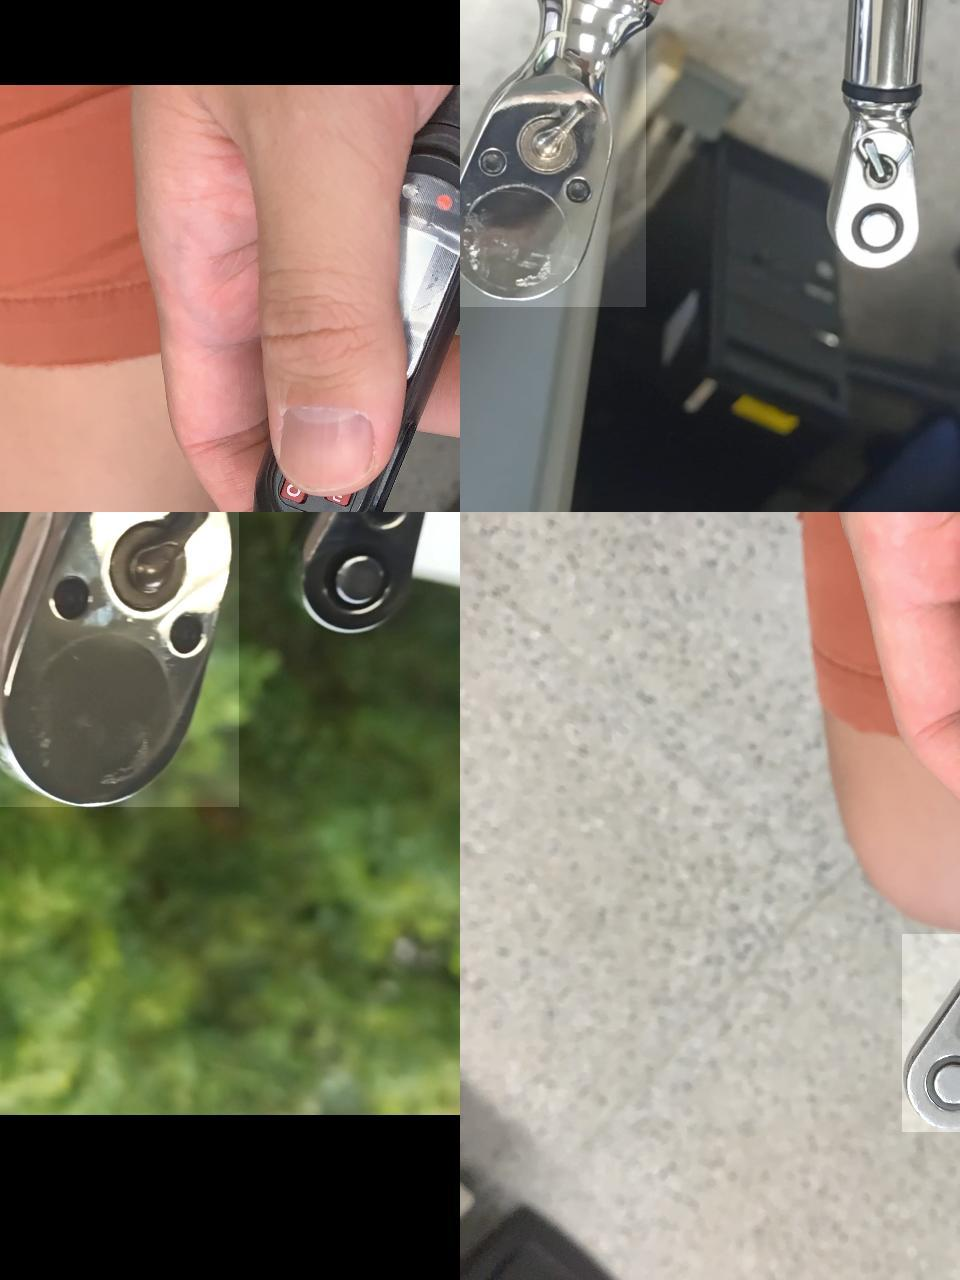Tool: (0, 512, 238, 807), (460, 0, 645, 307), (287, 512, 460, 644), (823, 100, 919, 274), (901, 934, 960, 1132)
